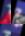potion: (0, 0, 11, 24), (0, 24, 11, 36)
